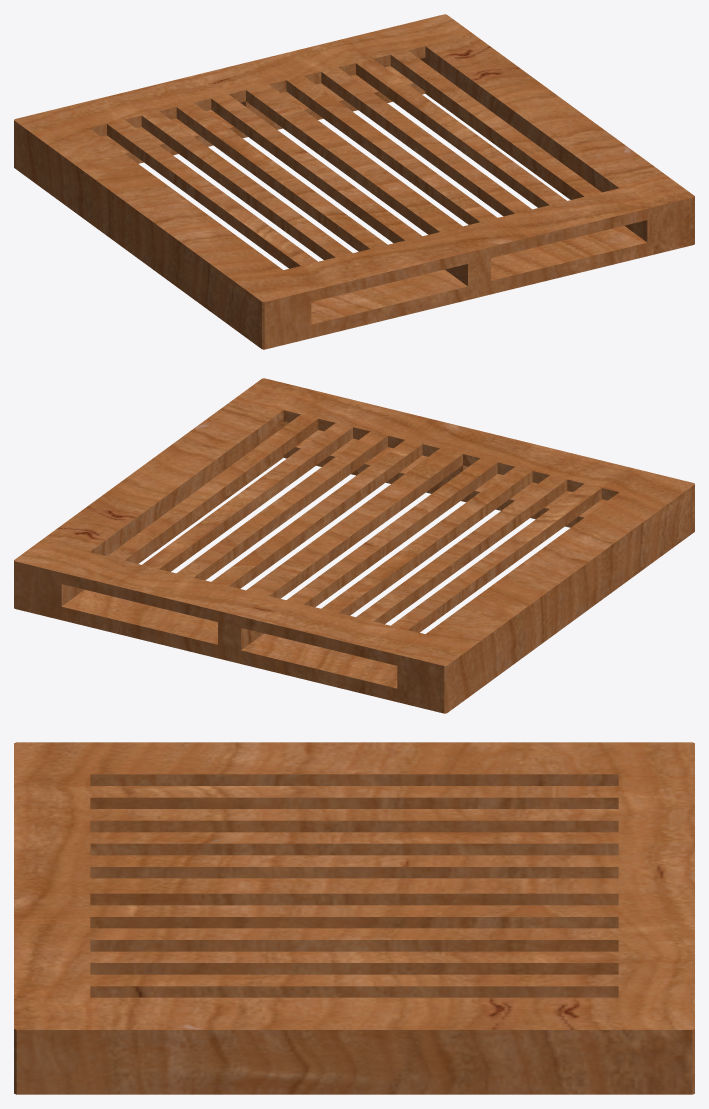
Rendered from palet.fbx.
3 renders of one model, top to bottom at view 1: azimuth 30°, elevation 25°; view 2: azimuth 150°, elevation 25°; view 3: azimuth 270°, elevation 25°, orthographic. The views are drawn at different scales.
Parts seen in each view (by area): view 1: Plane; view 2: Plane; view 3: Plane.
Part boxes in pixels (x1=…): Plane: x1=14, y1=14, x2=694, y2=349; Plane: x1=14, y1=378, x2=694, y2=713; Plane: x1=14, y1=742, x2=694, y2=1094.
Size of the model in its own units: 2 by 0.21 by 2.
Materials: 1 (1 with a texture image).
